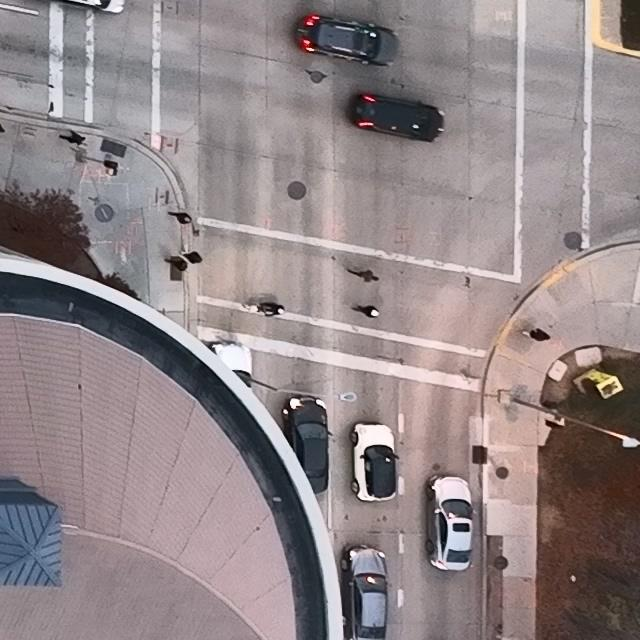car: (294, 11, 400, 67), (280, 393, 333, 496), (345, 90, 447, 143), (424, 473, 477, 572), (339, 543, 392, 640), (348, 420, 400, 503), (209, 340, 254, 394)
